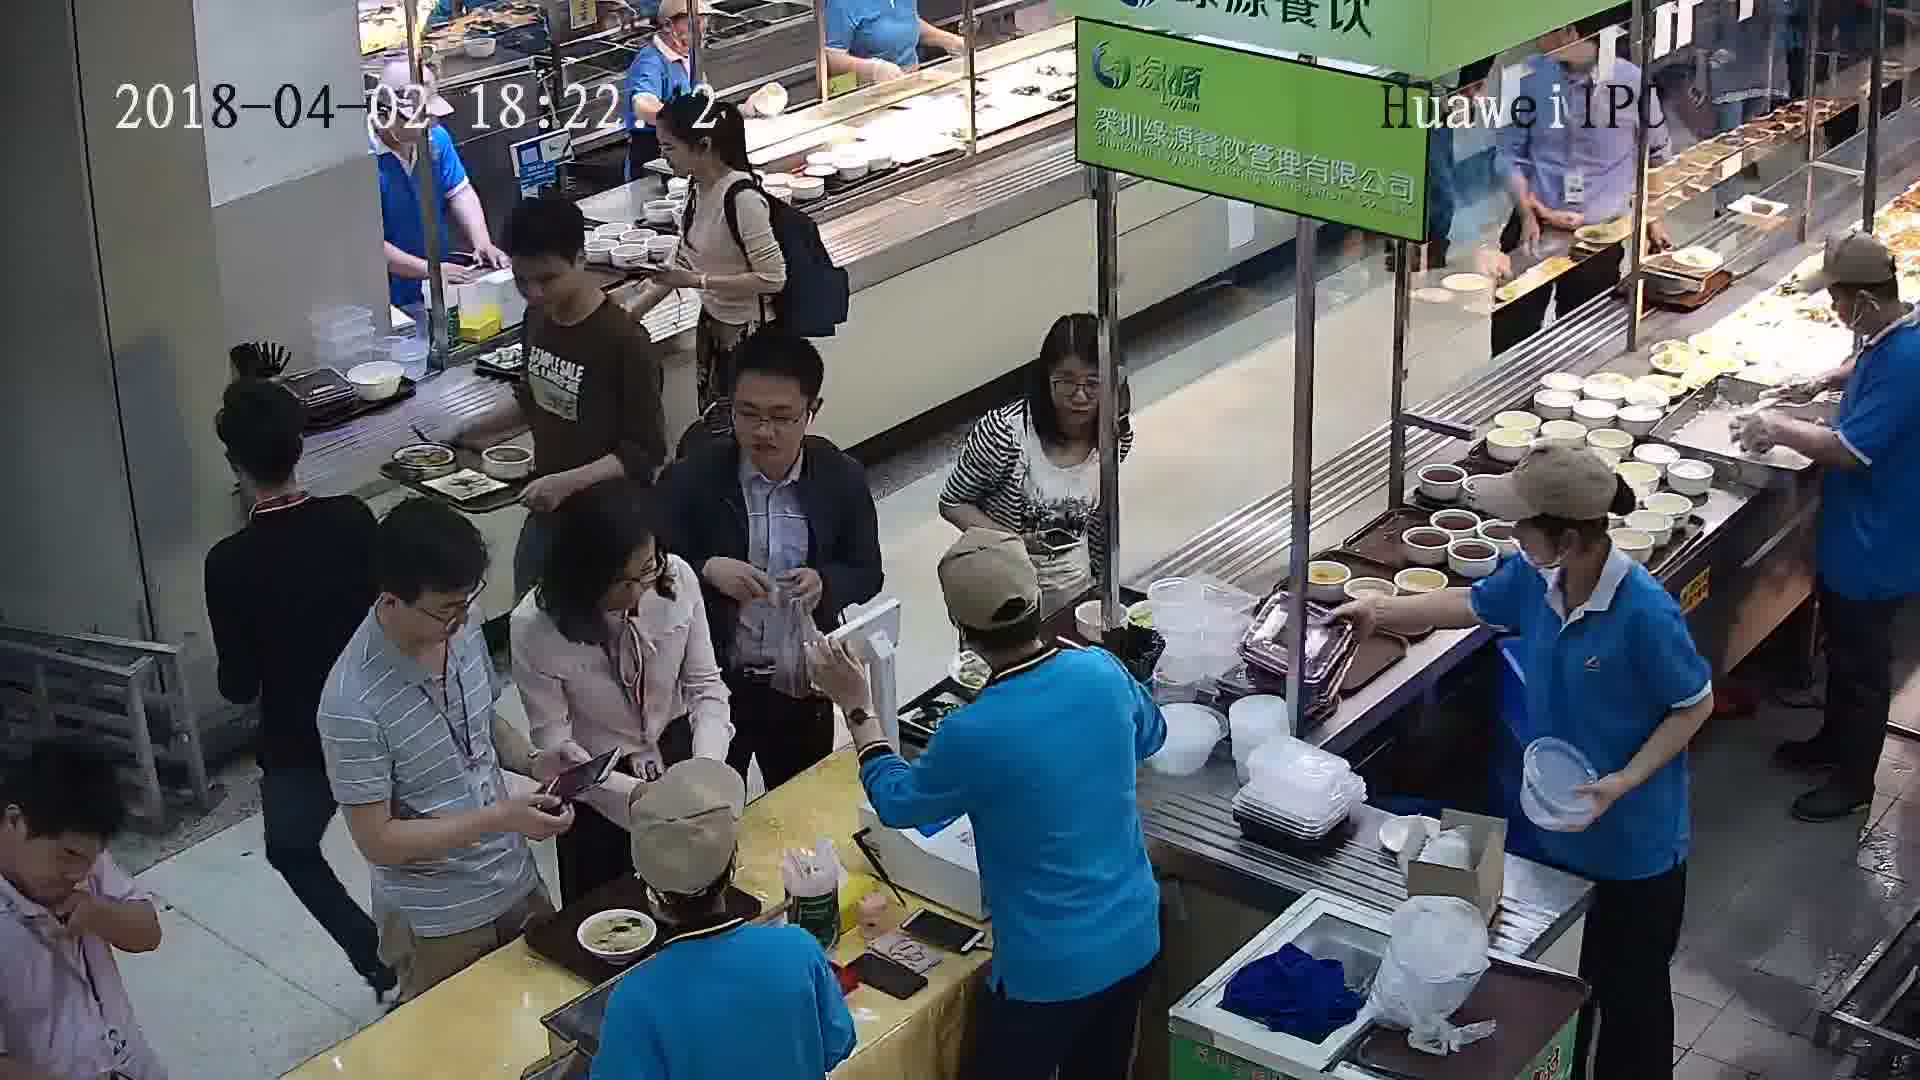face: (724, 371, 815, 462), (22, 821, 101, 900), (592, 536, 667, 611), (1042, 350, 1104, 430), (401, 575, 471, 644), (509, 246, 577, 313)
person: (600, 770, 836, 1019), (1471, 434, 1689, 666), (924, 535, 1141, 767), (661, 331, 873, 523), (321, 498, 498, 724), (503, 477, 691, 670), (1, 736, 148, 981), (203, 381, 371, 593), (498, 192, 650, 400), (977, 314, 1124, 482), (1809, 238, 1919, 400), (659, 102, 775, 236), (1524, 12, 1652, 114), (367, 78, 453, 179), (628, 2, 698, 87)
